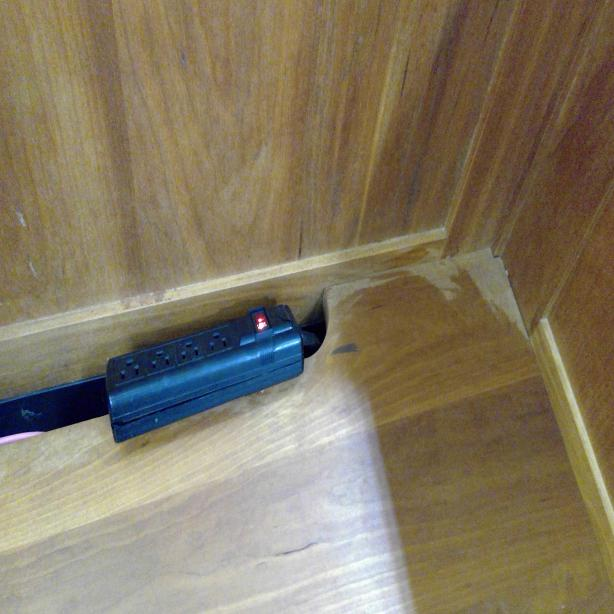typeb: (114, 354, 142, 388), (147, 344, 172, 376), (177, 337, 202, 368), (207, 324, 230, 356)
